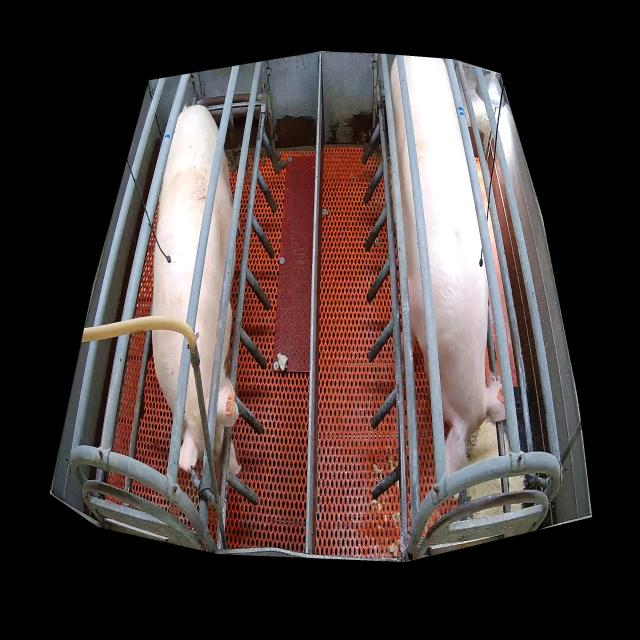pig: (389, 55, 506, 478), (152, 106, 241, 475)
